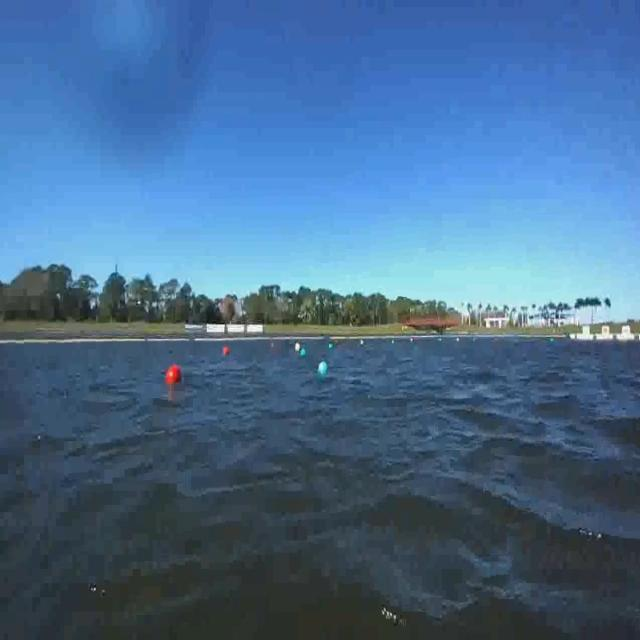green-buoy: (319, 360, 333, 382), (301, 346, 307, 361)
red-buoy: (164, 364, 182, 384), (223, 346, 229, 355)
